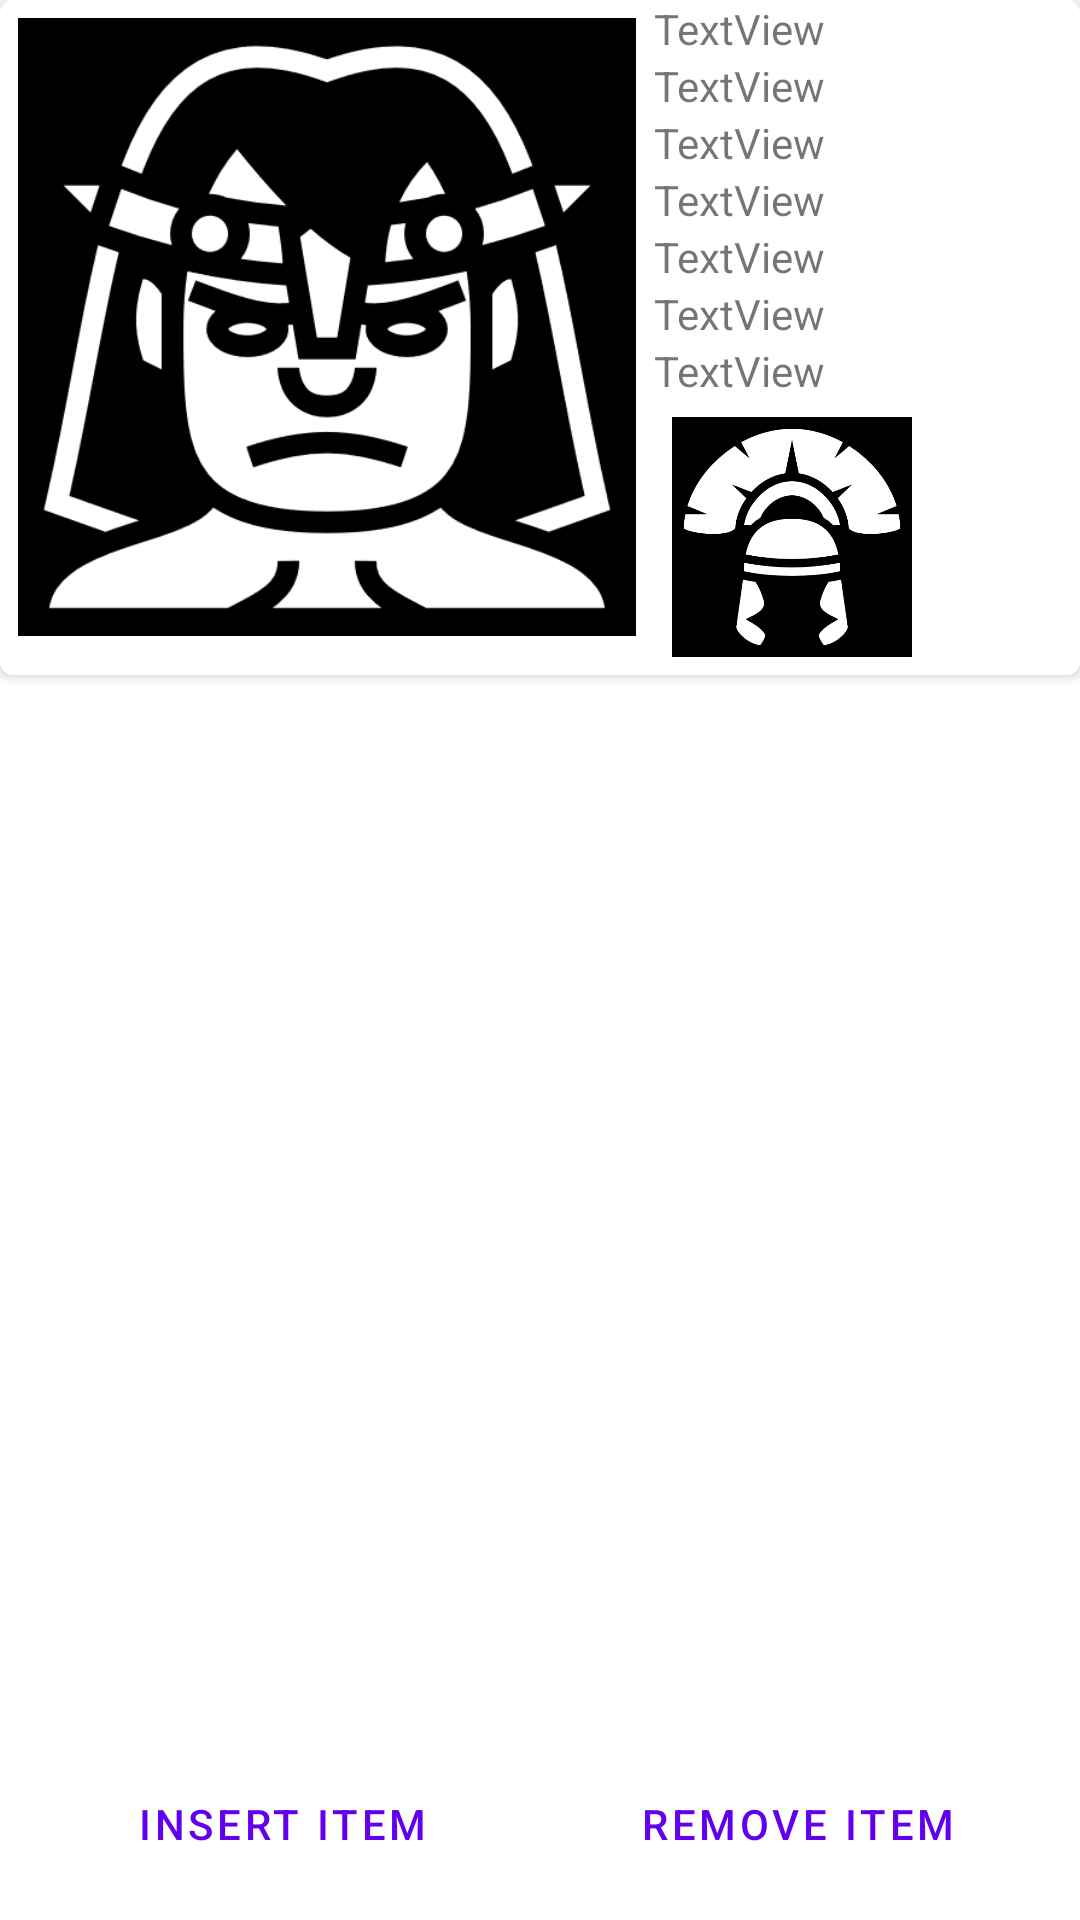

Icon bounding boxes for this 1080w x 1920h phone screenshot, format bbox=(x1, y1, x2, y2):
armor helmet: bbox=(672, 417, 912, 657)
